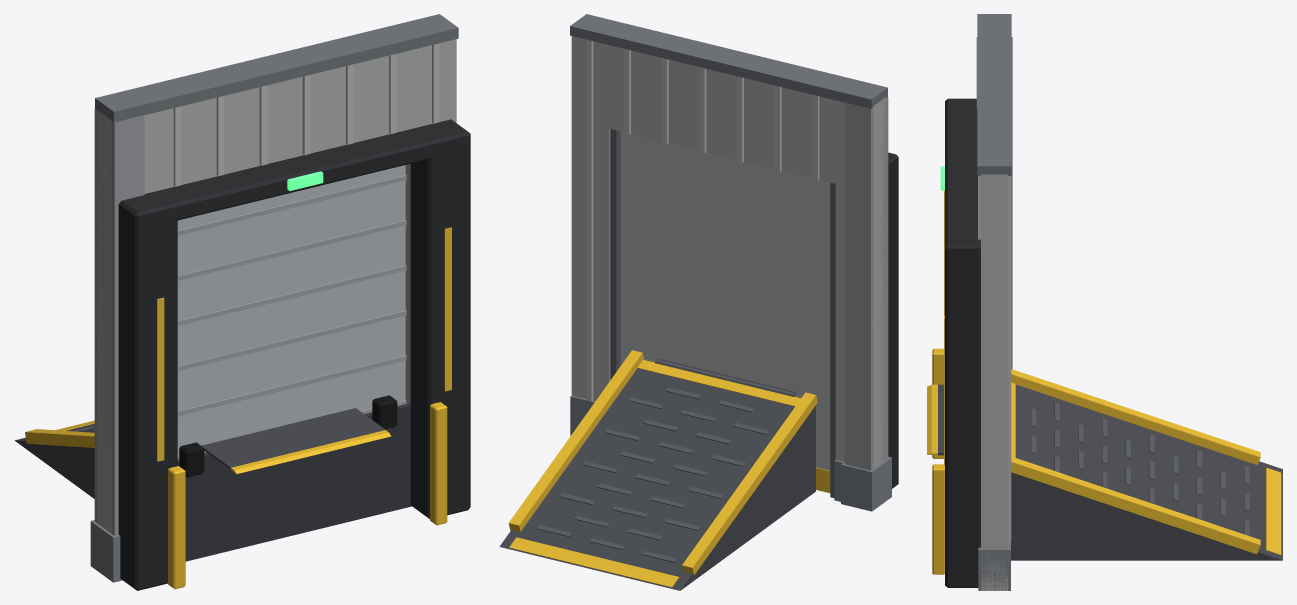
File: dock_door.glb
3 renders of one model, left to right at view 1: azimuth 30°, elevation 25°; view 2: azimuth 150°, elevation 25°; view 3: azimuth 270°, elevation 25°, orthographic. The views are drawn at different scales.
Visible parts, largest first — view 1: DockDoor, Door, LevelerLip, Leveler; view 2: DockDoor, Leveler, Door, LevelerLip; view 3: Leveler, DockDoor, LevelerLip.
Part boxes in pixels (x1=…): DockDoor: x1=90, y1=14, x2=470, y2=590; Door: x1=177, y1=165, x2=406, y2=459; LevelerLip: x1=201, y1=408, x2=391, y2=473; Leveler: x1=14, y1=420, x2=94, y2=498; DockDoor: x1=570, y1=14, x2=898, y2=511; Leveler: x1=499, y1=350, x2=817, y2=590; Door: x1=620, y1=131, x2=830, y2=493; LevelerLip: x1=655, y1=359, x2=795, y2=396; Leveler: x1=1011, y1=369, x2=1282, y2=560; DockDoor: x1=932, y1=14, x2=1012, y2=590; LevelerLip: x1=927, y1=384, x2=943, y2=455.
Size of what is drawn, in the model's own units: 4.03 by 5.2 by 3.95.
